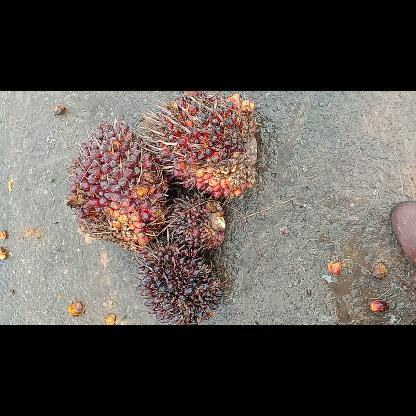TBS abnormal: (134, 234, 226, 324), (160, 191, 230, 251)
TBS masak: (64, 117, 170, 255), (136, 91, 260, 200)
